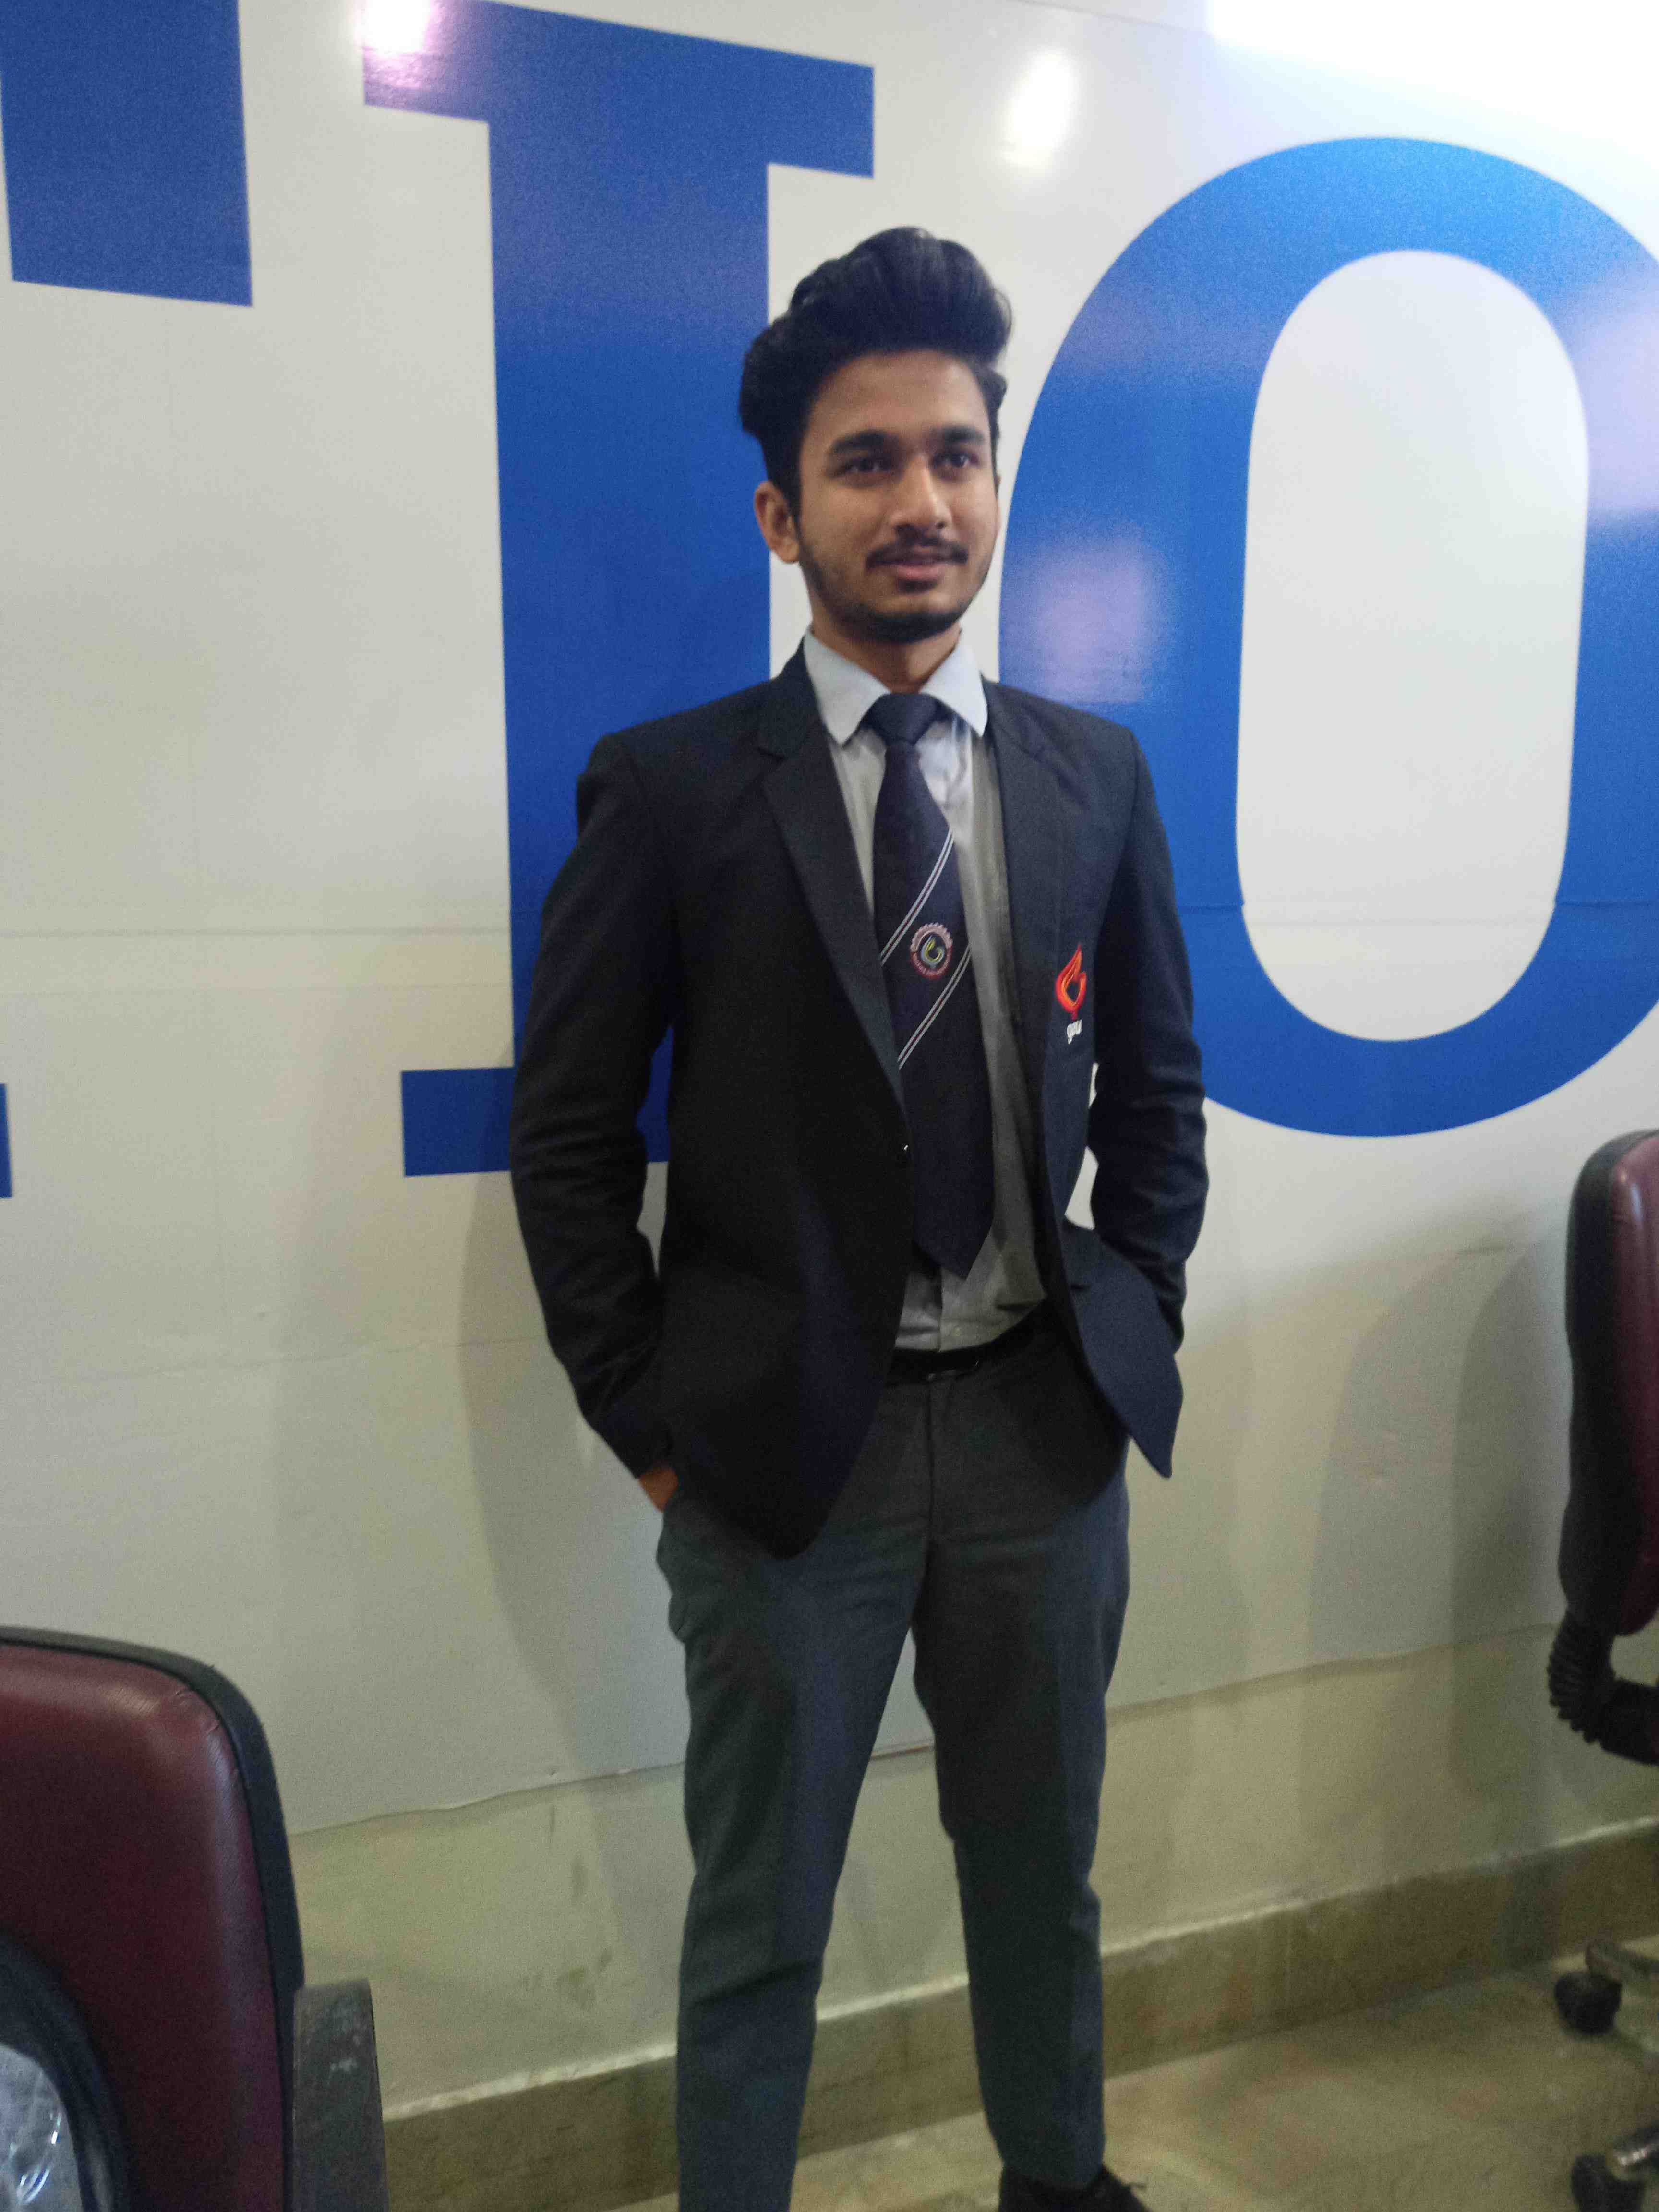blazer: (530, 683, 1246, 1484)
pant: (657, 1369, 1108, 2191)
tie: (842, 672, 1018, 1266)
